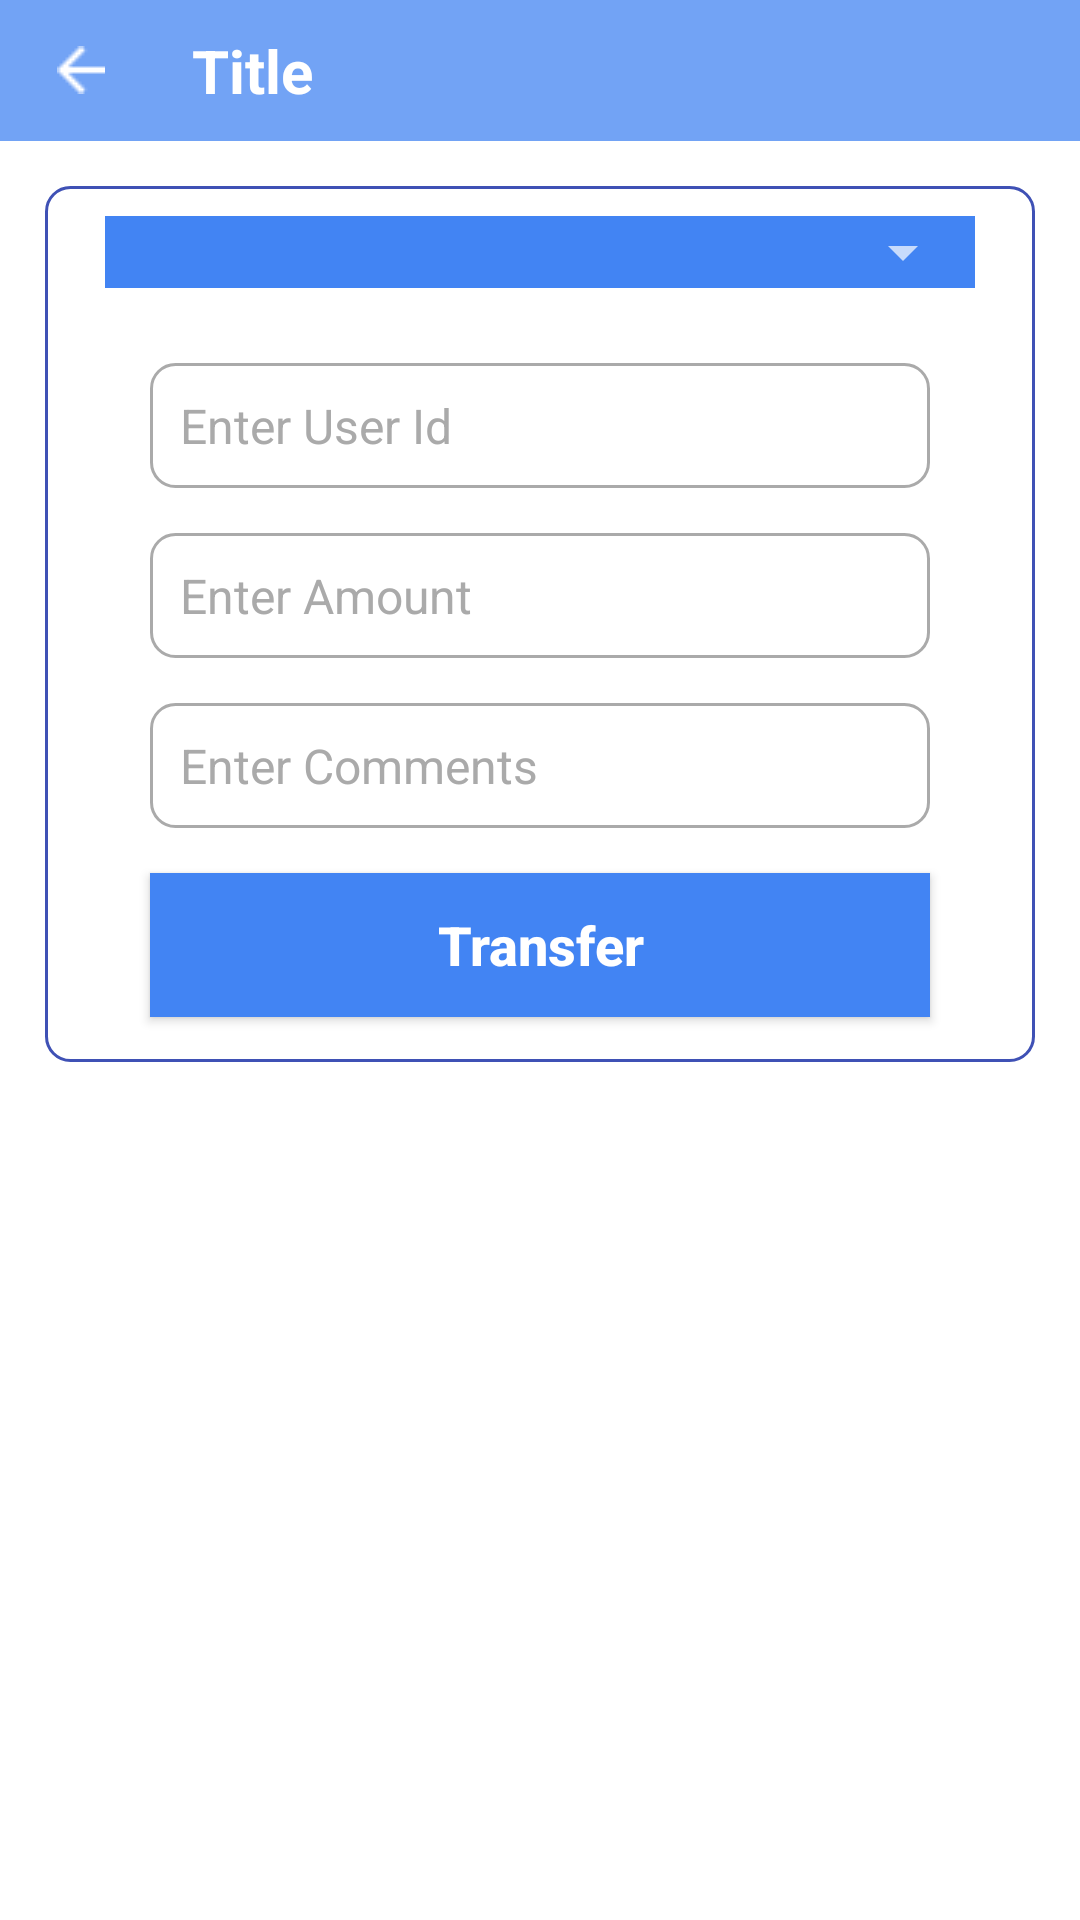

Point at icon controls on the screen. Image size 1080px×1920px, points as (x,y).
back: (81,70)
